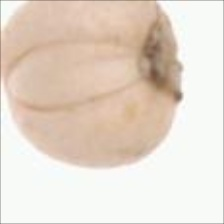L5: (5, 35, 142, 114), (139, 5, 187, 109)
L6: (1, 1, 187, 172)
